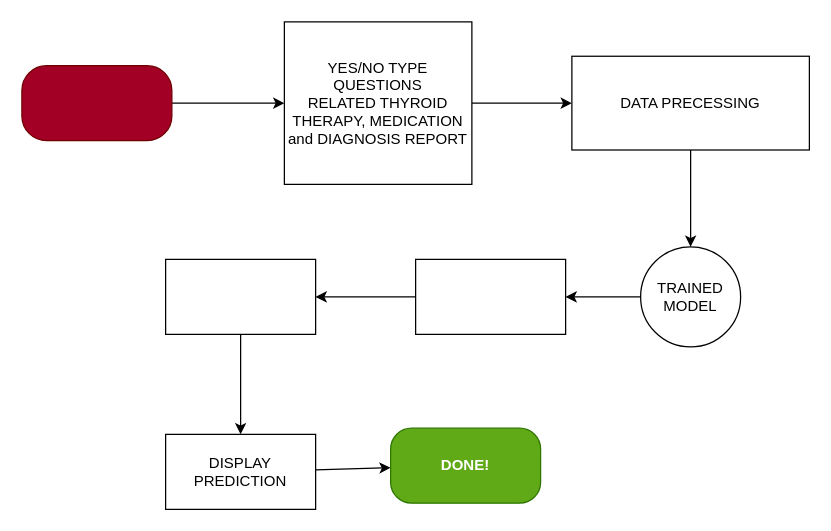
Image size: 831x531. Some labels were removed from this diagram. The shapes that lost their labels are listed below. From the top down, each one's centre as x and y in pixels, then its label:
At pixel 96 102: "START".
At pixel 240 296: "PREDICTION LABEL DECODING".
At pixel 490 296: "PREDICTION".
